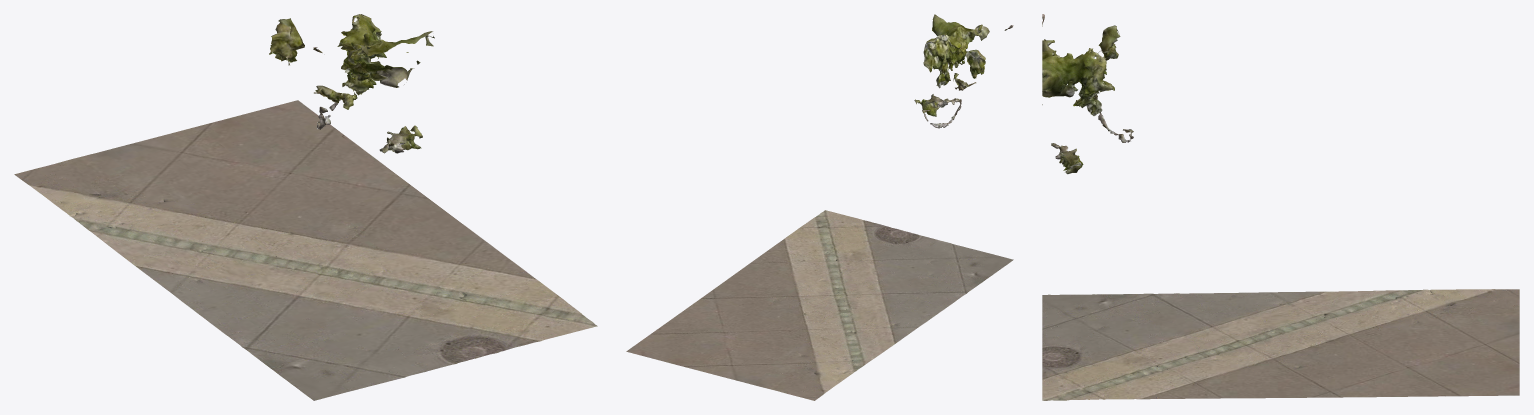
The picture shows the model from 3 angles, left to right: view 1: azimuth 30°, elevation 25°; view 2: azimuth 150°, elevation 25°; view 3: azimuth 270°, elevation 25°; orthographic projection. The views are drawn at different scales.
Bounding box in the file's own units: 3.95 × 4.69 × 7.22.
Materials: 1 (1 with a texture image).
